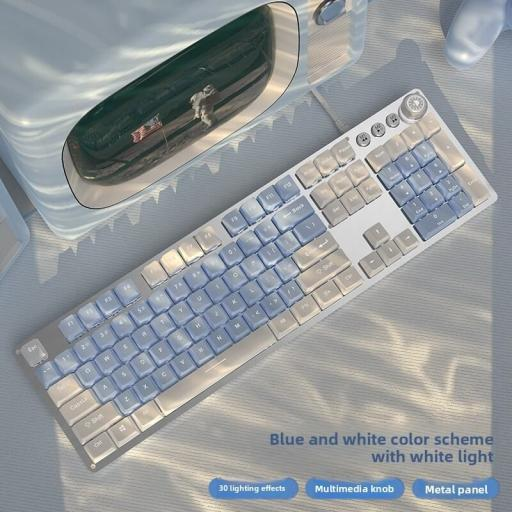KEYBOARD-2: (20, 86, 504, 474)
